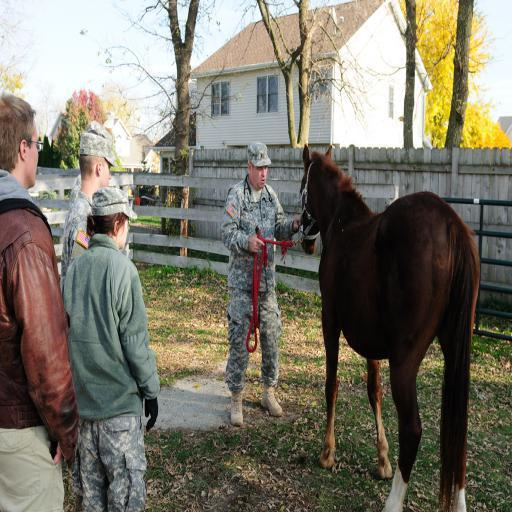horse: (298, 140, 482, 512)
